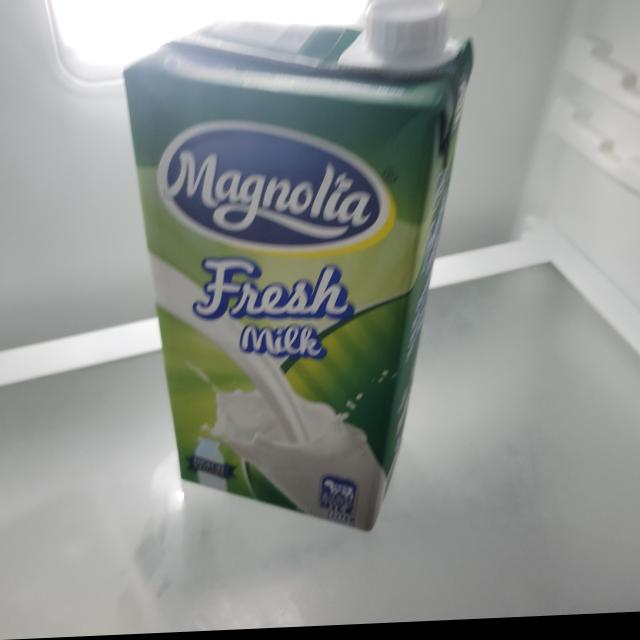milk: (122, 6, 474, 551)
